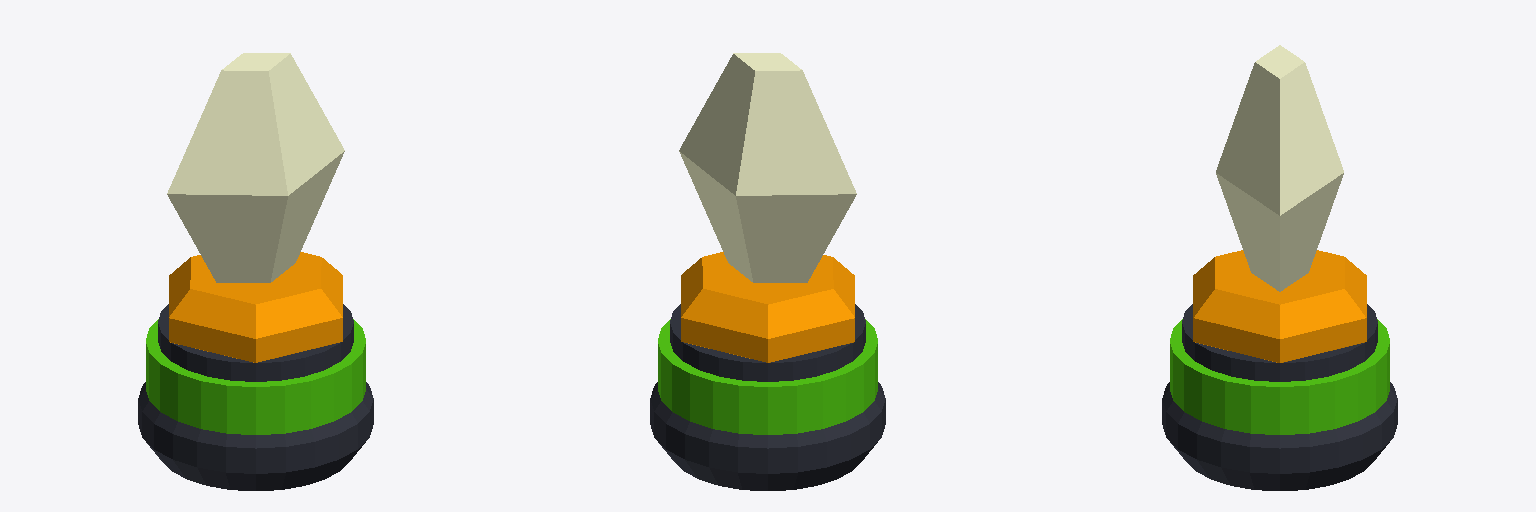
Rendered from tower_yellow_sapphire.obj.
The picture shows the model from 3 angles: view 1: azimuth 30°, elevation 25°; view 2: azimuth 150°, elevation 25°; view 3: azimuth 270°, elevation 25°; orthographic projection.
Visible parts, largest first — view 1: mergedBlocks; view 2: mergedBlocks; view 3: mergedBlocks.
Boxes of the visible parts, x1,y1,x2,y2 form: mergedBlocks: [138, 53, 373, 490]; mergedBlocks: [650, 53, 885, 490]; mergedBlocks: [1162, 45, 1397, 490].
Size of the model in its own units: 0.96 by 1.74 by 0.96.